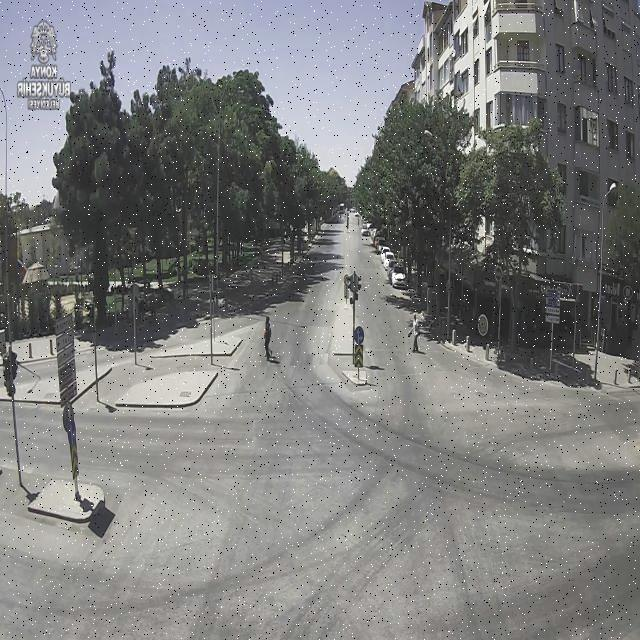Car: (392, 265, 407, 288)
